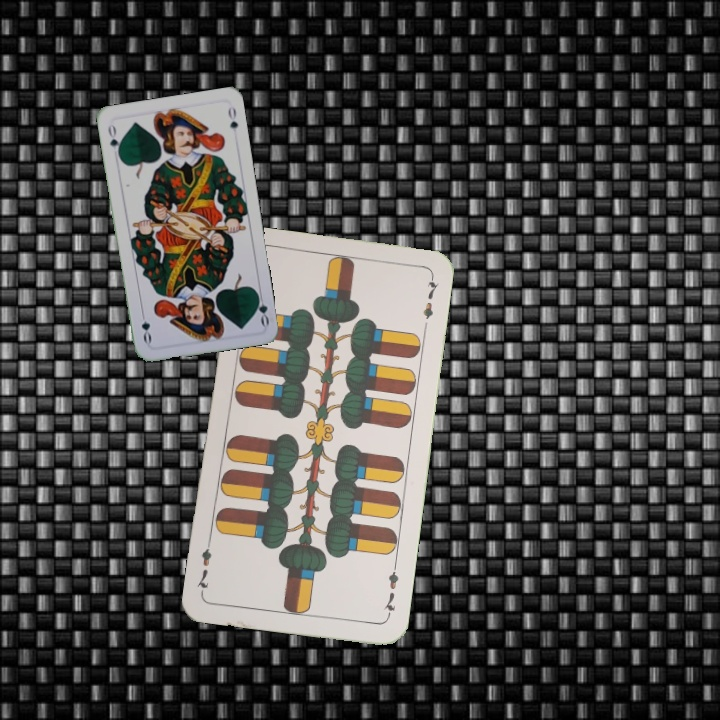E7: (379, 561, 401, 620)
GO: (252, 287, 272, 328), (104, 120, 123, 160)
